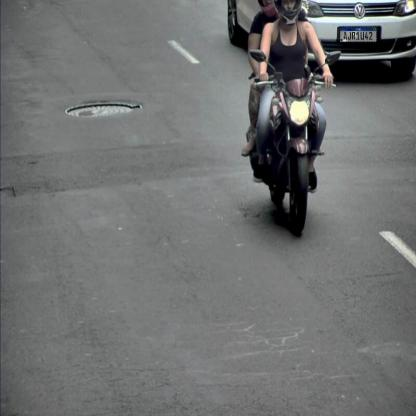PlacaM: (340, 26, 377, 42)
